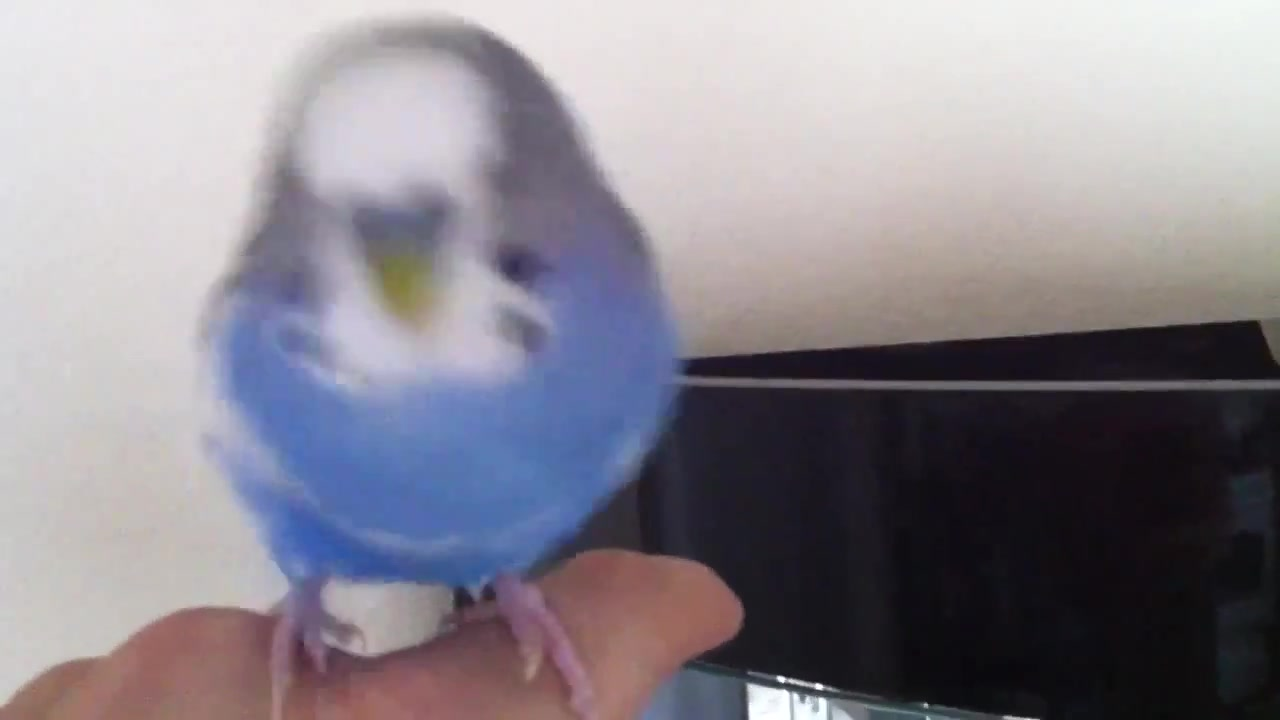bird: (200, 23, 681, 720)
